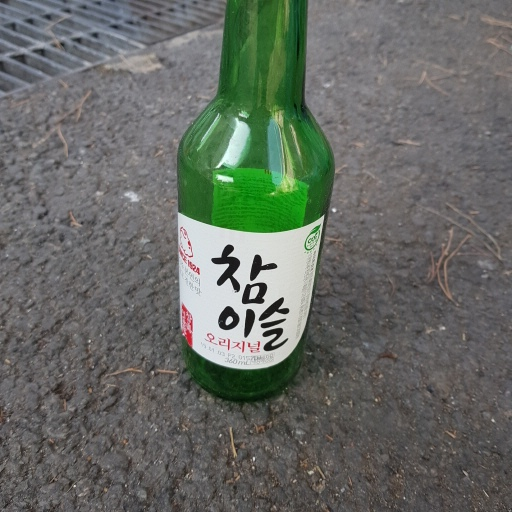Glass_0: (170, 2, 335, 401)
